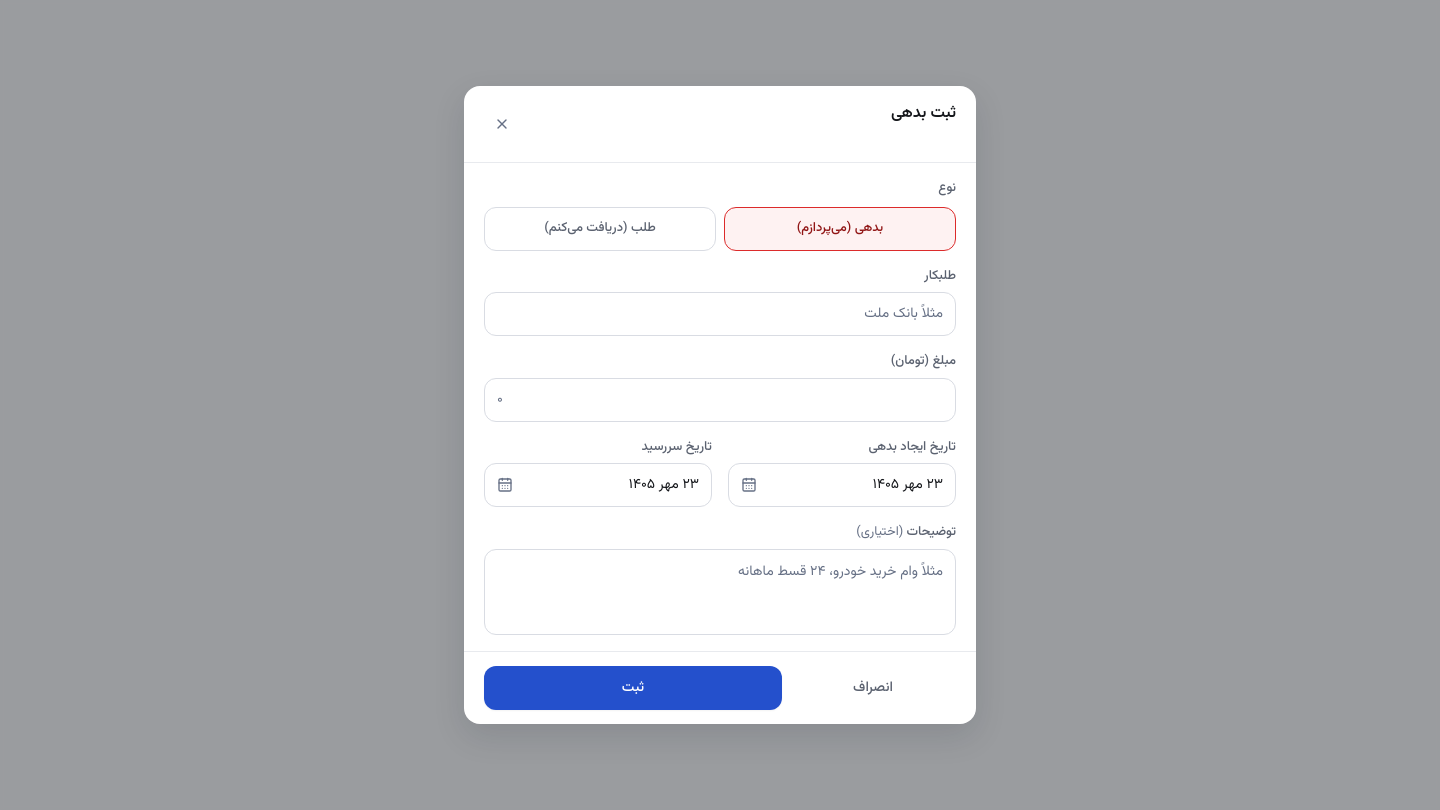
Scenario: DebtForm › requires a counterparty and an amount
Click the button "ثبت".
click(633, 688)  # box [484,666,782,710]
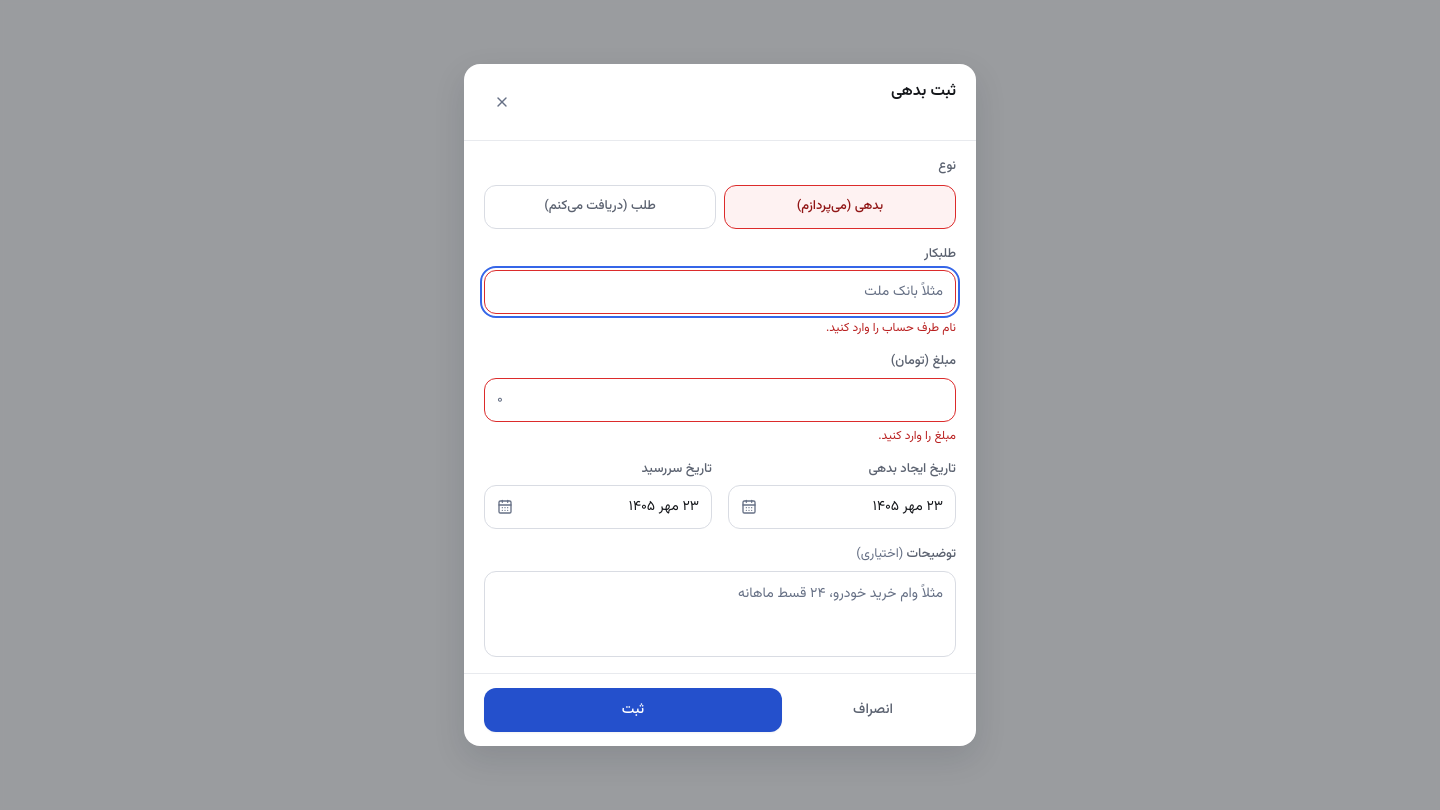
Result: the text "نام طرف حساب را وارد کنید." is shown at [826,319,956,337]
Result: the text "مبلغ را وارد کنید." is shown at [878,427,956,445]
